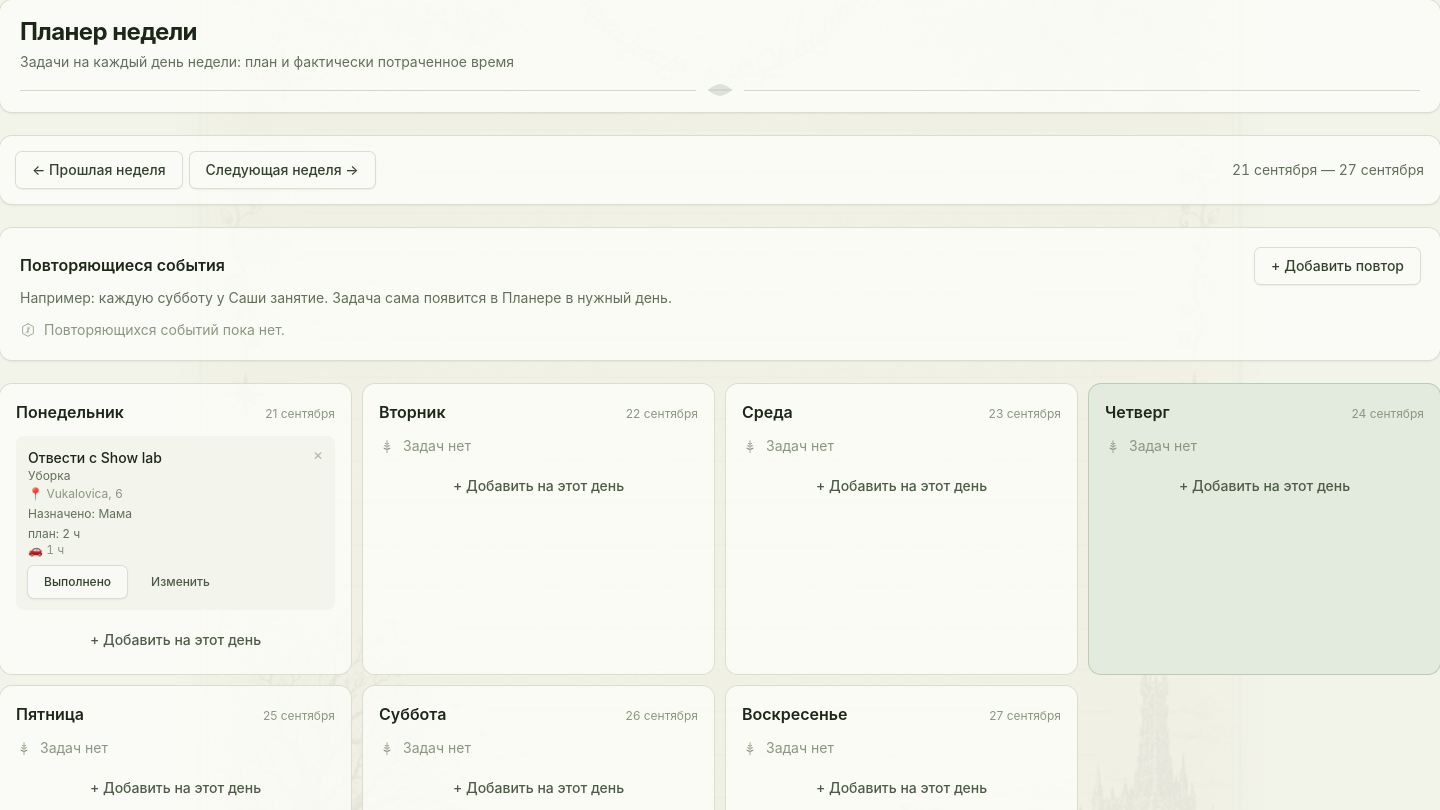
Test: PlannerPage: задачи общие для родителей › открывает окно правки с заполненными полями
Click the button "Изменить": {"x": 180, "y": 582} [135,566,226,598]
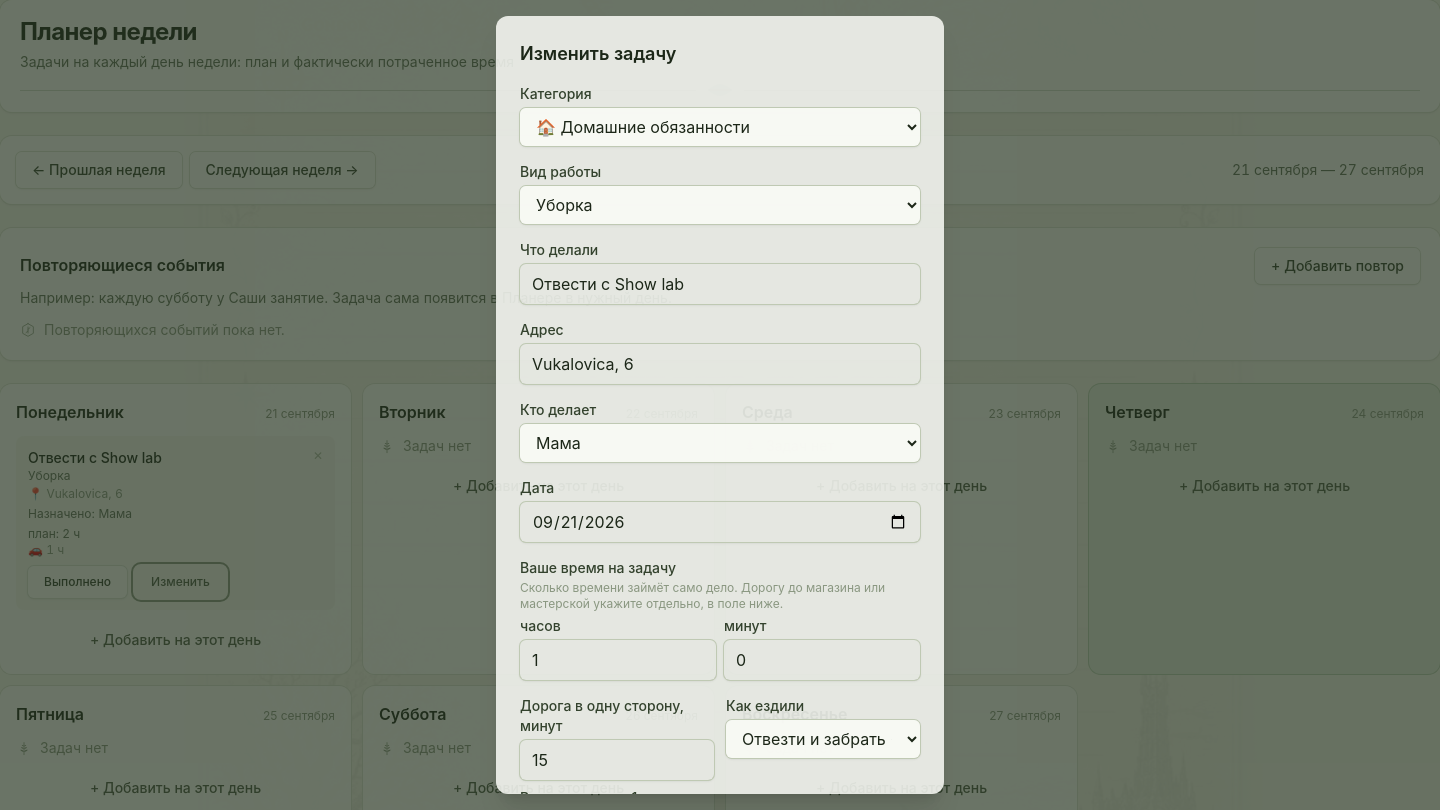
Expected: the field labelled "Что делали" holds "Отвести с Show lab", [520,264,920,304]
Expected: the field labelled "Адрес" holds "Vukalovica, 6", [520,344,920,384]
Expected: the number field labelled "Дорога в одну сторону, минут" holds "15", [520,740,714,780]
